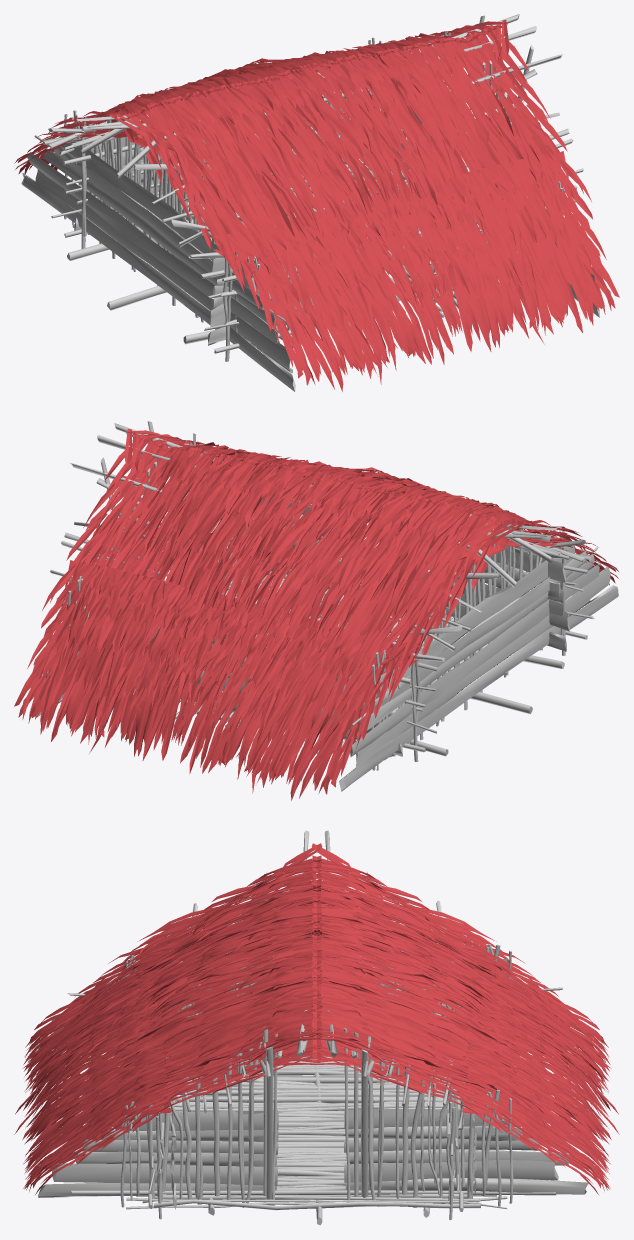
Rendered from Reed_Hut.fbx.
3 views of the same model, one above another, from view 1: azimuth 30°, elevation 25°; view 2: azimuth 150°, elevation 25°; view 3: azimuth 270°, elevation 25° (orthographic).
Visible parts, largest first — view 1: roof_layer2.002, walls.002, walls; view 2: roof_layer2.002, walls.002, walls; view 3: roof_layer2.002, walls, walls.002.
Boxes of the visible parts, box(x1,y1,x2,y2) form: roof_layer2.002: box(14, 20, 619, 391); walls.002: box(21, 91, 599, 391); walls: box(34, 14, 583, 373); roof_layer2.002: box(14, 429, 619, 800); walls.002: box(37, 494, 618, 791); walls: box(50, 421, 598, 770); roof_layer2.002: box(14, 843, 619, 1194); walls: box(68, 830, 562, 1225); walls.002: box(38, 958, 588, 1209).
Bounding box in the file's own units: 5569 × 2333 × 6415.
